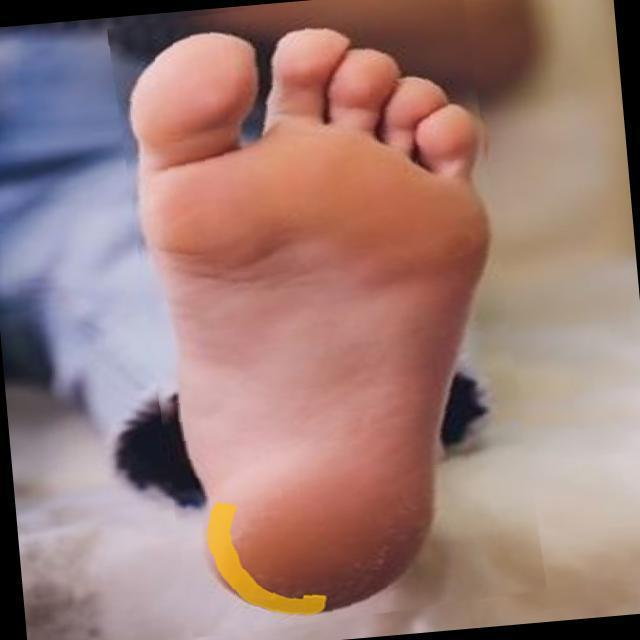No_Shoes: (109, 18, 489, 616)
